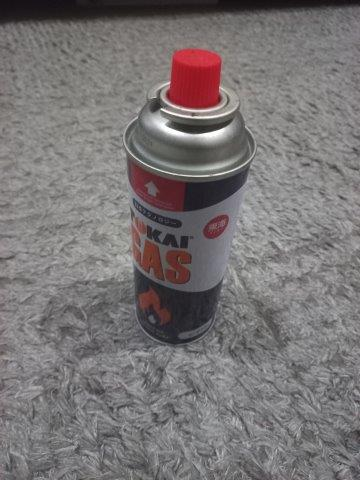kaleng: (122, 50, 254, 346)
